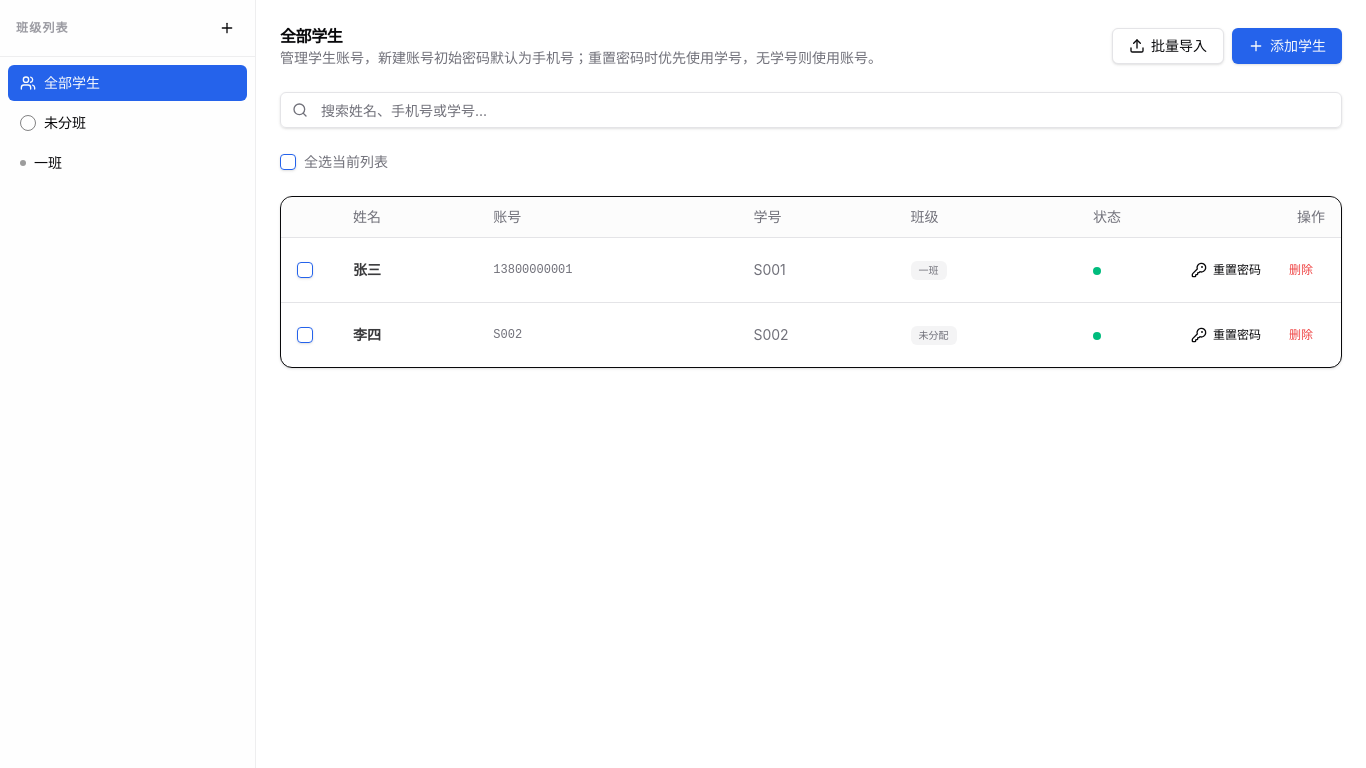
Test: StudentManagementPage › supports deleting a single student from the list
Expected: the text "张三" is shown, [337,237,477,302]
Click the button with aria-label "删除 张三" at (1301, 270), box [1277,254,1325,286]
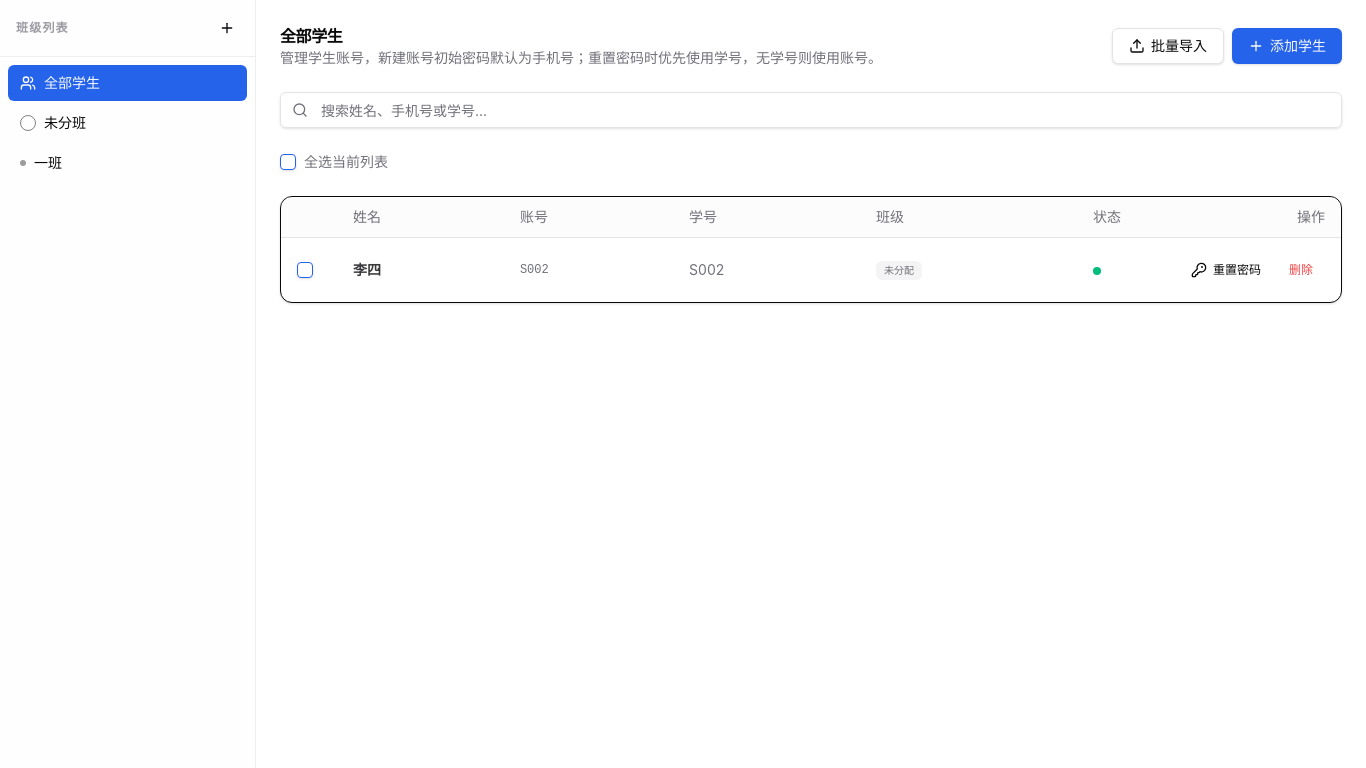
Expected: the text "李四" is shown, [337,237,504,302]
Now the text "张三" is gone
